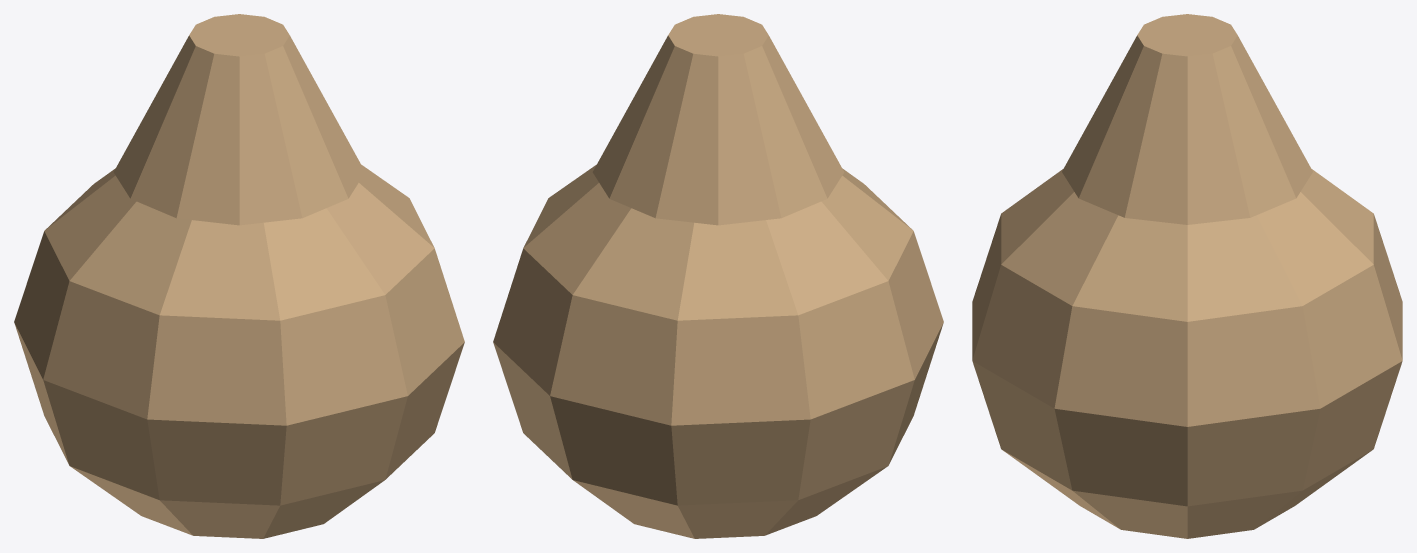
The model's file is supermarket-operations-onion-a3961741.glb.
3 views of the same model, side by side, from view 1: azimuth 30°, elevation 25°; view 2: azimuth 150°, elevation 25°; view 3: azimuth 270°, elevation 25° (orthographic).
Parts seen in each view (by area): view 1: onion; view 2: onion; view 3: onion.
Boxes of the visible parts, x1,y1,x2,y2 form: onion: (14, 14, 464, 538); onion: (493, 14, 943, 538); onion: (972, 14, 1402, 538).
Size of the model in its own units: 0.09 by 0.1055 by 0.0856.
